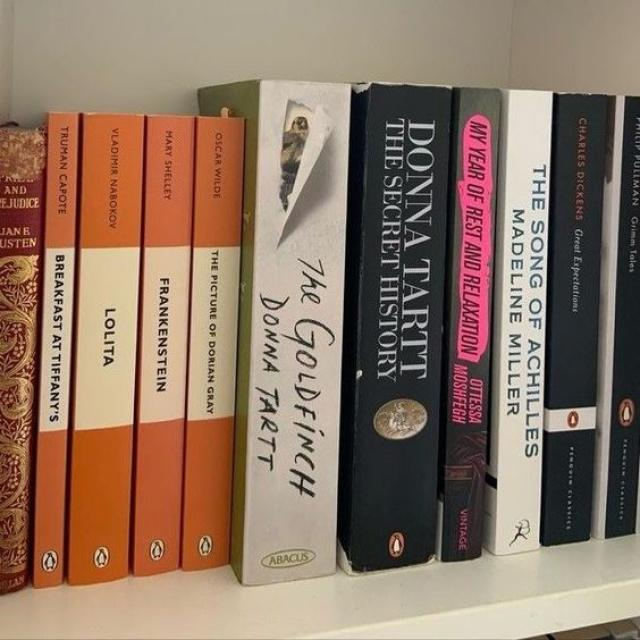book: (237, 83, 351, 584), (339, 84, 449, 569), (68, 116, 142, 583), (540, 94, 608, 545), (486, 90, 551, 555), (437, 89, 499, 561), (182, 110, 243, 570), (133, 116, 194, 575), (31, 112, 78, 587), (0, 125, 47, 593), (598, 96, 639, 538)
